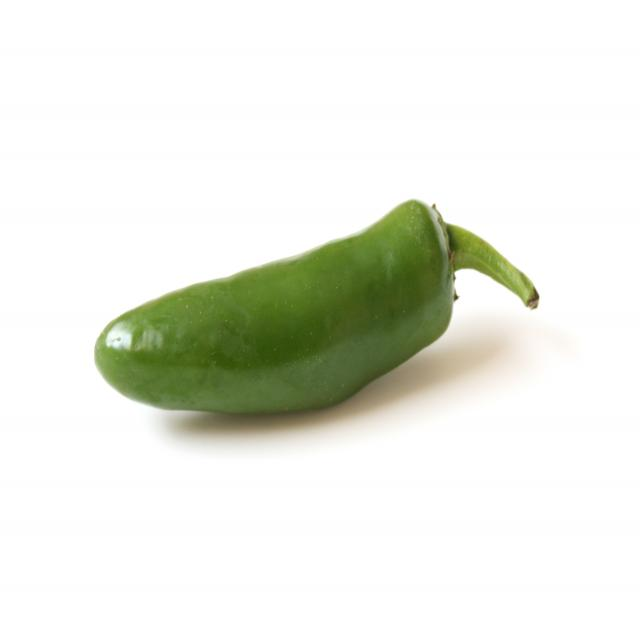aji: (68, 196, 556, 425)
